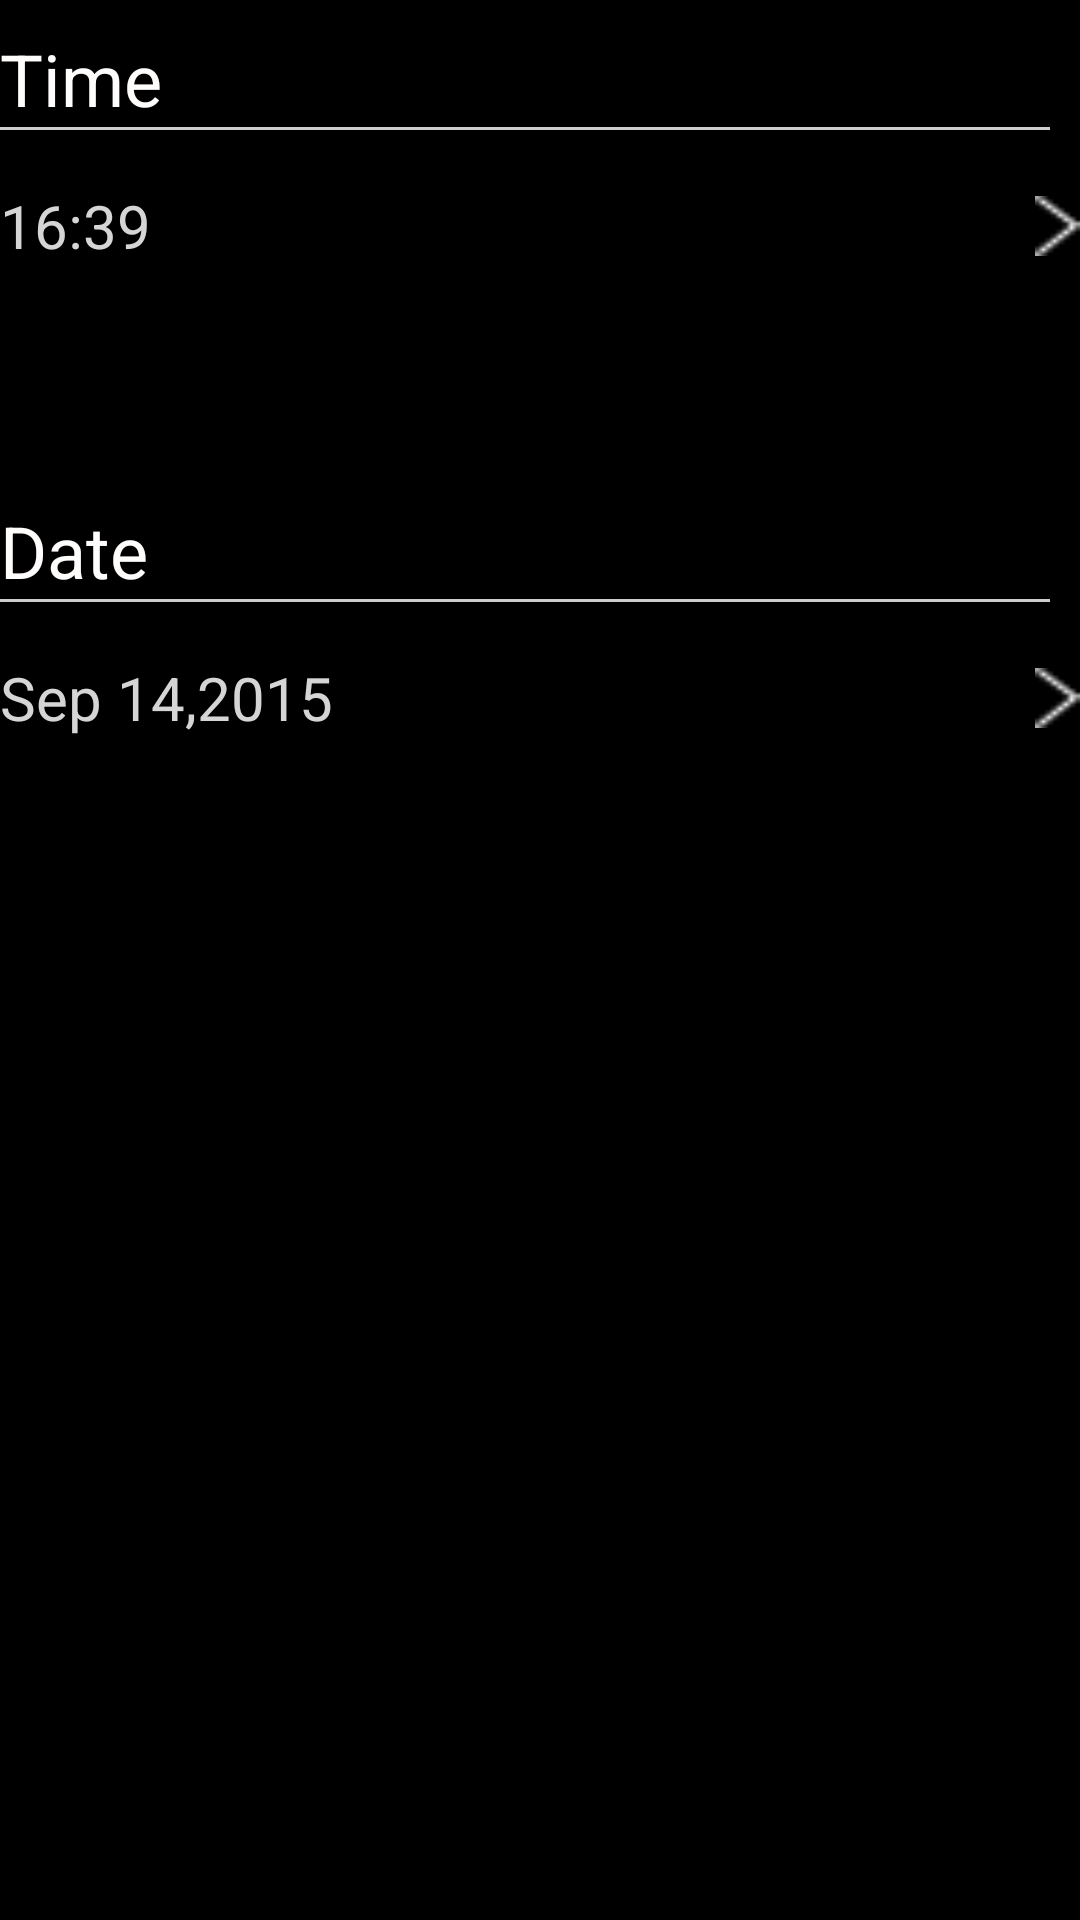

Where icons sit on this 1080w x 1920h app screen, as [x1, y1, x2, y2]:
right arrow: [1035, 196, 1080, 256], [1035, 668, 1080, 728]
